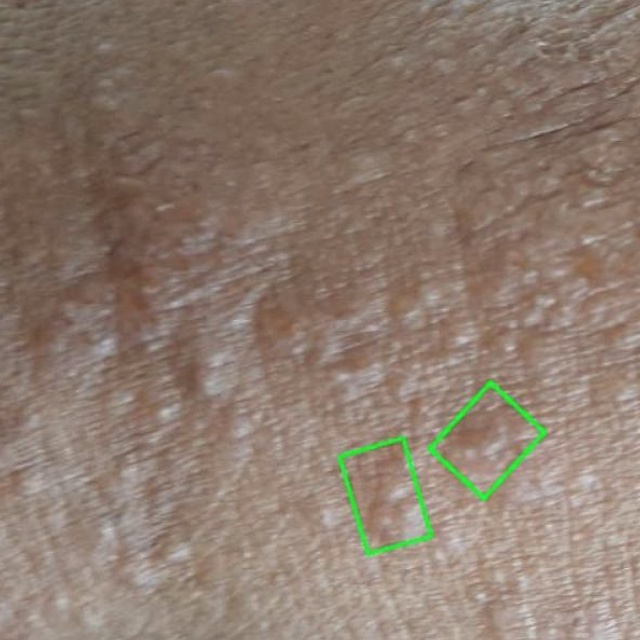Seborrheic Dermatitis: (428, 382, 544, 499), (338, 438, 430, 554)
